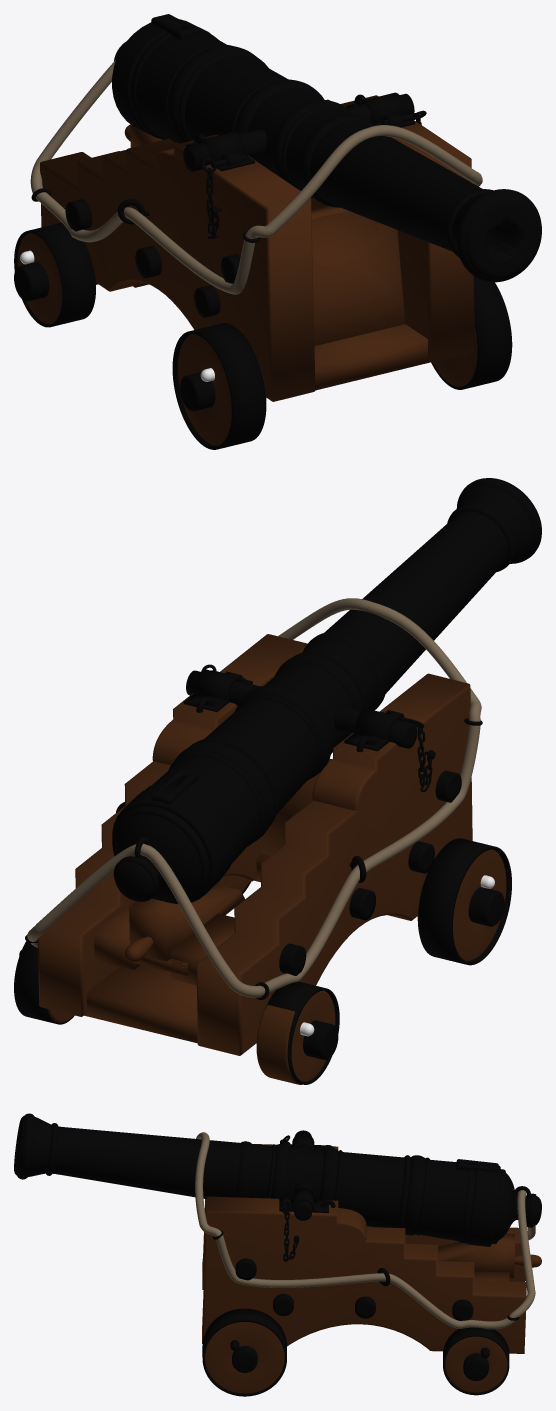
The model's file is OLD SHIP CANNON.glb.
The picture shows the model from 3 angles, top to bottom: view 1: azimuth 30°, elevation 25°; view 2: azimuth 150°, elevation 25°; view 3: azimuth 270°, elevation 25°; orthographic projection. The views are drawn at different scales.
Visible parts, largest first — view 1: BARREL, right carriage, Front Plate, left carriage, Rope, iron wheel.4, front axle block, iron wheel.3, iron wheel, right front wheel, right rear wheel, Pivot (+9 smaller); view 2: BARREL, right carriage, left carriage, Rope, rear axle block, iron wheel.4, right rear wheel, angle block, right front wheel, Pivot, right mount, iron wheel.2 (+11 smaller); view 3: BARREL, left carriage, Rope, left front wheel, left rear wheel, angle block, iron wheel, iron wheel.2, right carriage, rear axle, latch, front axle (+7 smaller).
Part boxes in pixels (x1,y1,x2,y2): BARREL: (112, 19, 541, 282); right carriage: (40, 134, 315, 401); Front Plate: (311, 205, 405, 345); left carriage: (311, 95, 474, 362); Rope: (30, 60, 482, 294); iron wheel.4: (172, 323, 266, 449); front axle block: (314, 324, 431, 390); iron wheel.3: (14, 222, 95, 327); iron wheel: (431, 276, 512, 389); right front wheel: (178, 334, 266, 445); right rear wheel: (17, 233, 62, 324); Pivot: (183, 93, 414, 171); BARREL: (112, 478, 541, 903); right carriage: (196, 673, 472, 1055); left carriage: (38, 634, 307, 1016); Rope: (27, 598, 481, 997); rear axle block: (84, 964, 197, 1043); iron wheel.4: (418, 838, 511, 965); right rear wheel: (256, 990, 335, 1084); angle block: (129, 884, 244, 961); right front wheel: (417, 849, 506, 960); Pivot: (186, 670, 417, 748); right mount: (170, 913, 234, 984); iron wheel.2: (14, 941, 74, 1024); BARREL: (14, 1113, 541, 1246); left carriage: (202, 1196, 526, 1353); Rope: (195, 1132, 535, 1329); left front wheel: (204, 1322, 284, 1393); left rear wheel: (444, 1336, 507, 1392); angle block: (438, 1233, 514, 1278); iron wheel: (202, 1308, 286, 1396); iron wheel.2: (443, 1327, 509, 1395); right carriage: (202, 1144, 525, 1289); rear axle: (463, 1353, 488, 1380); latch: (279, 1187, 328, 1212); front axle: (232, 1346, 257, 1372).
Bounding box in the file's own units: 2.3 × 2.4 × 4.93.
